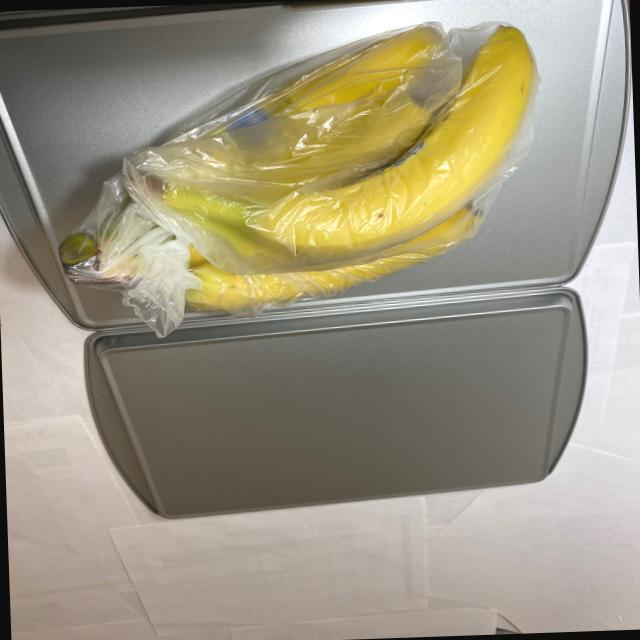banana: (42, 11, 547, 323)
